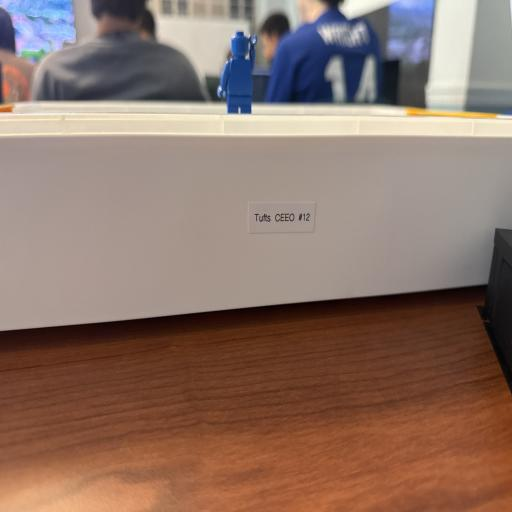Minifig: (218, 31, 257, 113)
